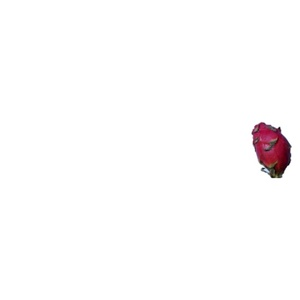pitaia: (252, 122, 292, 179)
